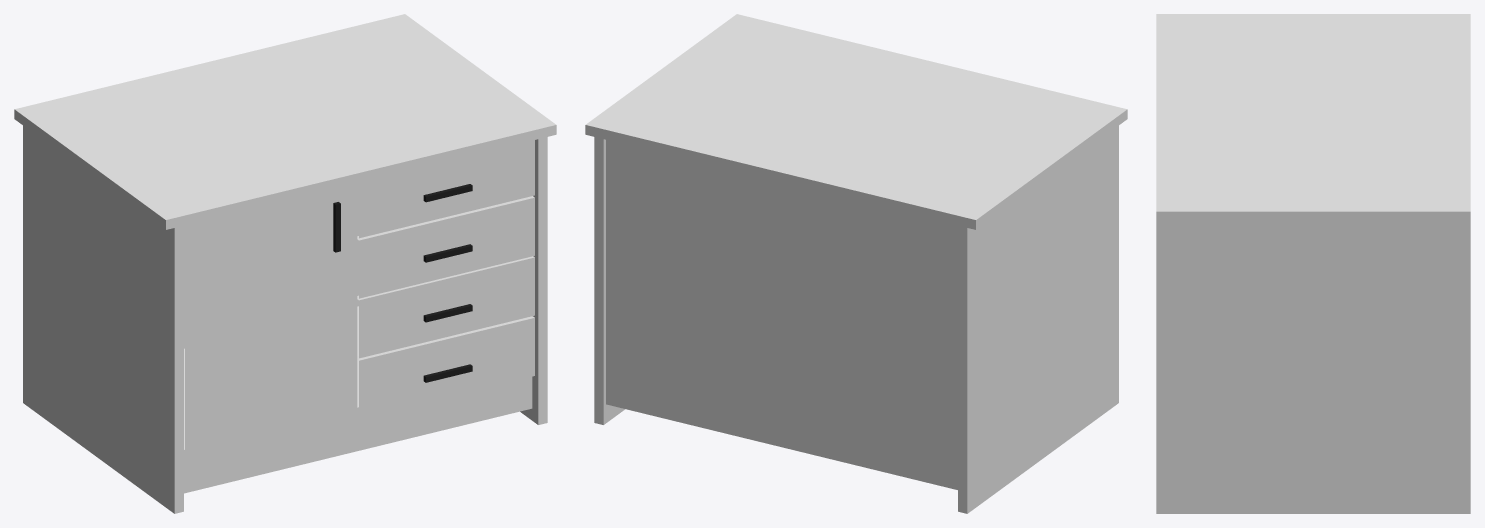
Rendered from shelf_052.glb.
3 views of the same model, side by side, from view 1: azimuth 30°, elevation 25°; view 2: azimuth 150°, elevation 25°; view 3: azimuth 270°, elevation 25° (orthographic). The views are drawn at different scales.
Parts seen in each view (by area): view 1: shelf_052; view 2: shelf_052; view 3: shelf_052.
Boxes of the visible parts, bbox=[...] form: shelf_052: bbox=[14, 14, 556, 513]; shelf_052: bbox=[585, 14, 1127, 513]; shelf_052: bbox=[1156, 14, 1470, 513].
Bounding box in the file's own units: 0.9099 × 0.6587 × 0.611.
1 material, 1 textured.
